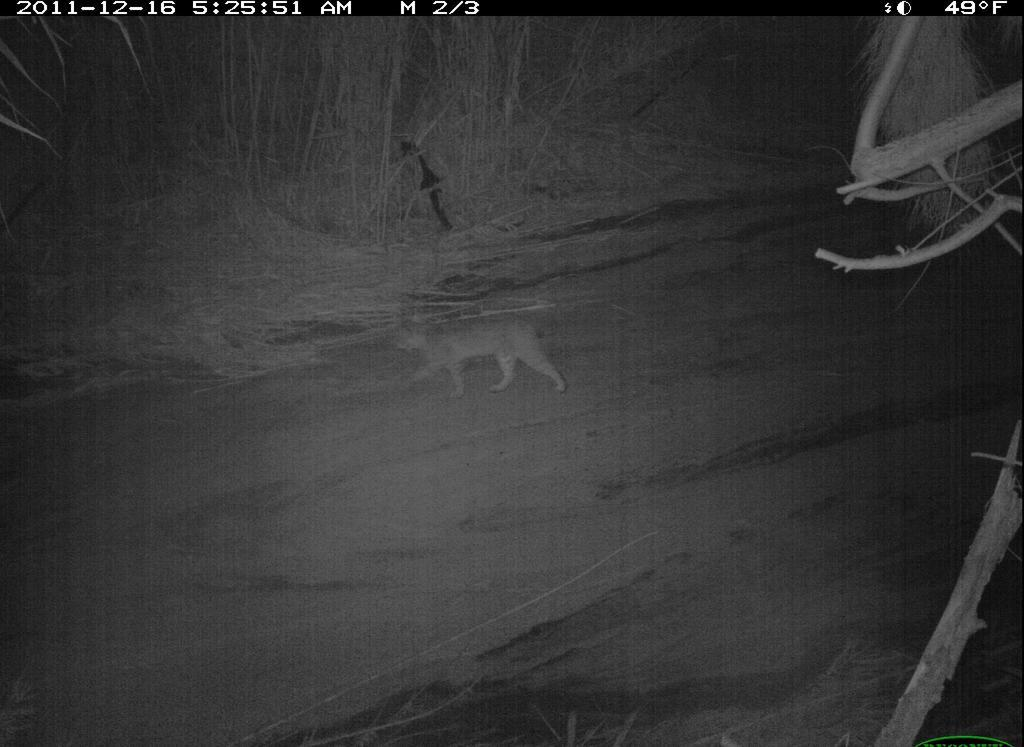bobcat: (386, 310, 575, 402)
